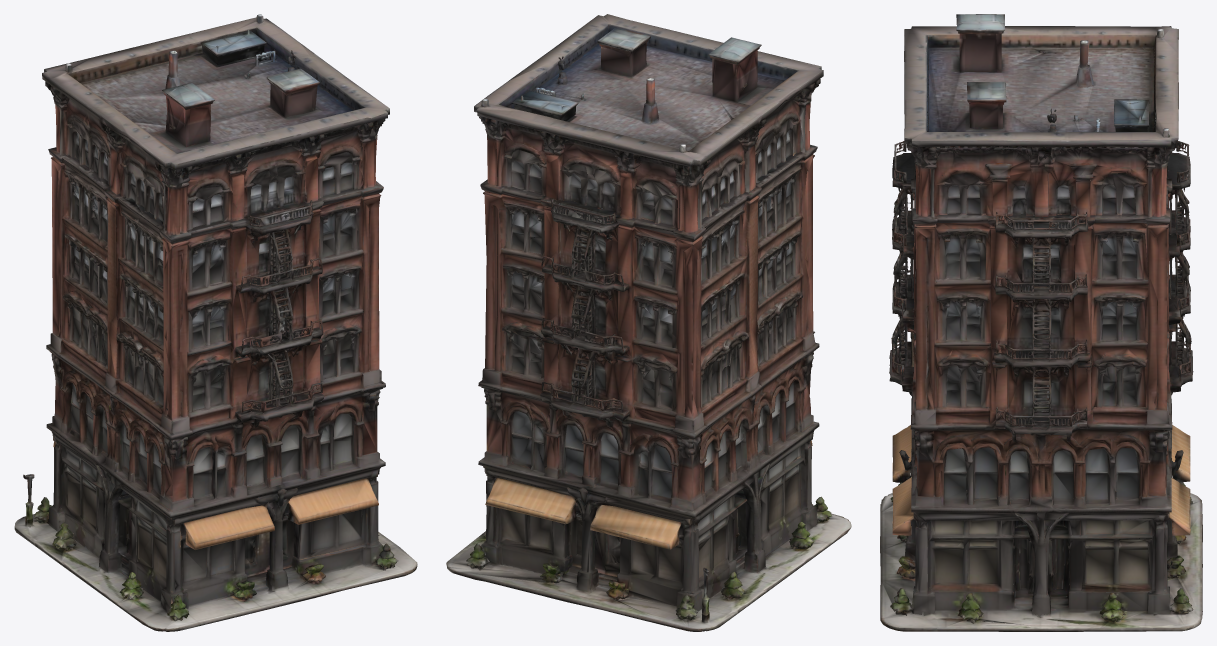
File: brownstone.glb
The picture shows the model from 3 angles, left to right: view 1: azimuth 30°, elevation 25°; view 2: azimuth 150°, elevation 25°; view 3: azimuth 270°, elevation 25°; orthographic projection. The views are drawn at different scales.
Visible parts, largest first — view 1: brownstone; view 2: brownstone; view 3: brownstone.
Part boxes in pixels (x1=…): brownstone: x1=14, y1=14, x2=417, y2=631; brownstone: x1=446, y1=14, x2=851, y2=631; brownstone: x1=880, y1=14, x2=1202, y2=631.
Bounding box in the file's own units: 1.1 × 1.9 × 1.08.
1 material, 1 textured.
